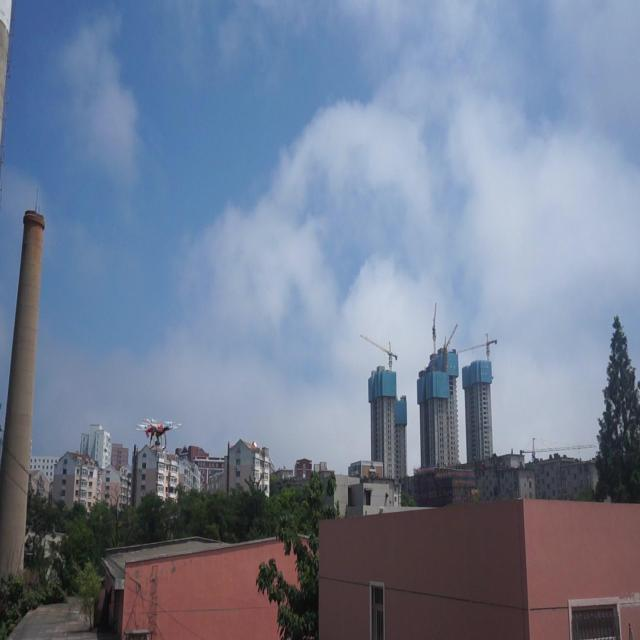drone: (133, 413, 184, 458)
